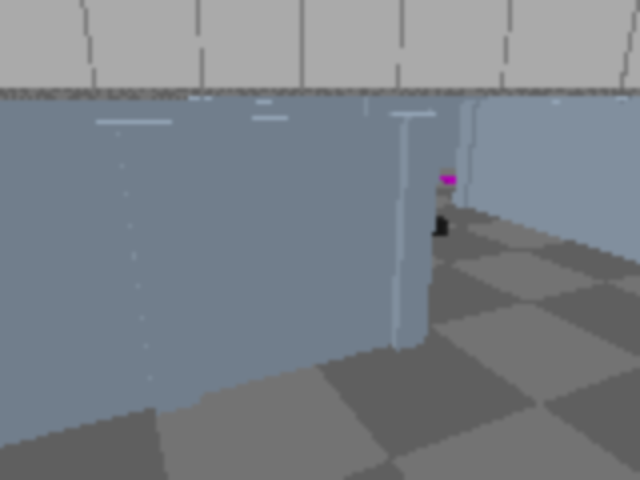puck: (431, 217, 449, 236)
